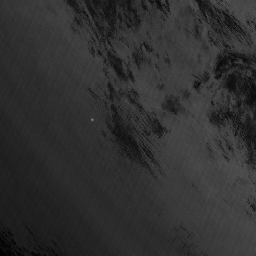Target: (89, 117, 95, 123)
